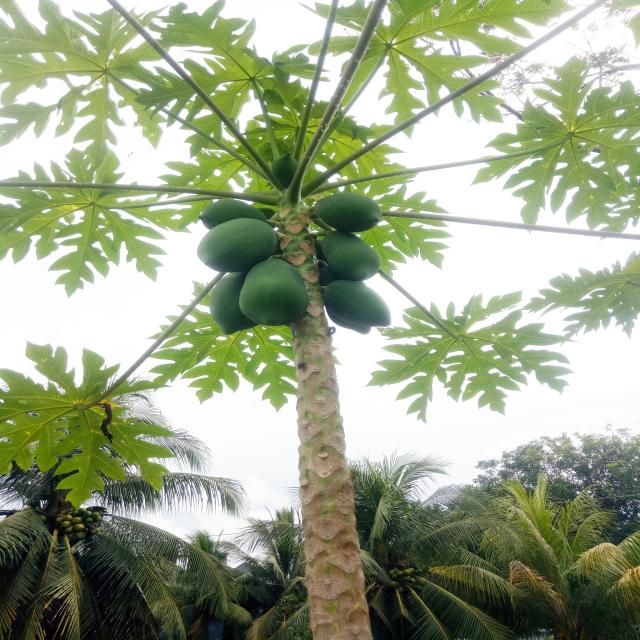Pepaya unrippen: (194, 219, 287, 273), (241, 263, 306, 329), (314, 189, 395, 241), (321, 236, 382, 282), (331, 288, 394, 329)
